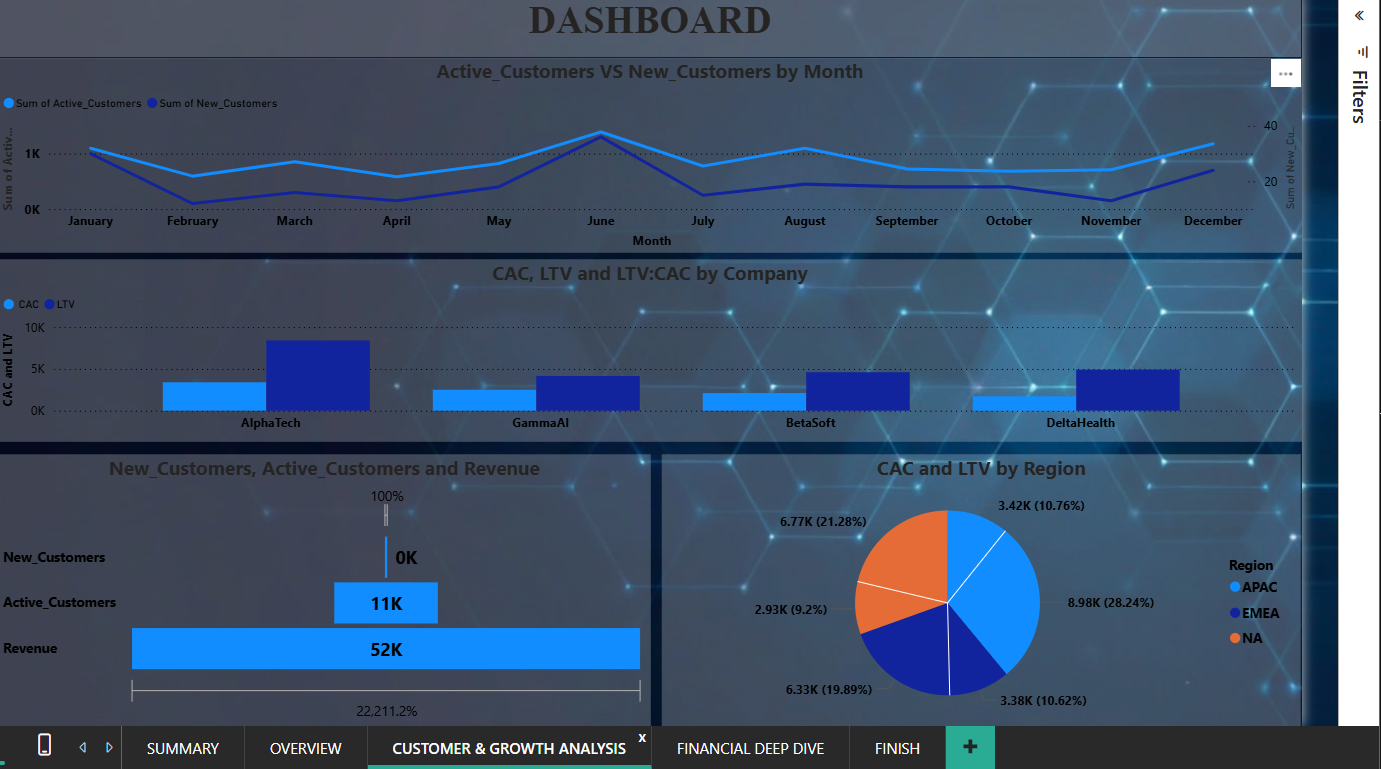

The page's visual inventory and layout, read from the dashboard file:
{"tool":"powerbi","page":{"name":"CUSTOMER & GROWTH ANALYSIS","canvas":[1280,720],"ordinal":2},"visuals":[{"type":"lineChart","title":"Active_Customers VS New_Customers by Month","fields":{"Y":["Sum(Data.Active_Customers)"],"Category":["Data.Date.Variation.Date Hierarchy.Month"],"Y2":["Sum(Data.New_Customers)"]},"box":[0,63.8,1280,191.5],"z":0},{"type":"clusteredColumnChart","fields":{"Category":["Data.Company"],"Y":["Sum(Data.CAC)","Sum(Data.LTV)"]},"box":[0,261.2,1280,178.8],"z":1000},{"type":"funnel","fields":{"Y":["Sum(Data.New_Customers)","Sum(Data.Active_Customers)","Sum(Data.Revenue)"]},"box":[0,452.5,640.5,267.5],"z":2000},{"type":"pieChart","fields":{"Y":["Sum(Data.CAC)","Sum(Data.LTV)"],"Category":["Data.Region"]},"box":[652,452.5,627.5,267.5],"z":3000},{"type":"textbox","box":[0,0,1280,63.8],"z":4000}]}

Visuals, with their boxes on the page's 1280x720 design canvas (x1, y1, x2, y2). These are canvas units, not pixel positions in the 1381x769 screenshot, which may show the page scaled, cropped or inside an application window:
"Active_Customers VS New_Customers by Month" lineChart: locate(0, 64, 1280, 255)
clusteredColumnChart - Data.Company x Sum(Data.CAC): locate(0, 261, 1280, 440)
funnel - Sum(Data.New_Customers) x Sum(Data.Active_Customers): locate(0, 452, 640, 720)
pieChart - Sum(Data.CAC) x Sum(Data.LTV): locate(652, 452, 1280, 720)
textbox: locate(0, 0, 1280, 64)
